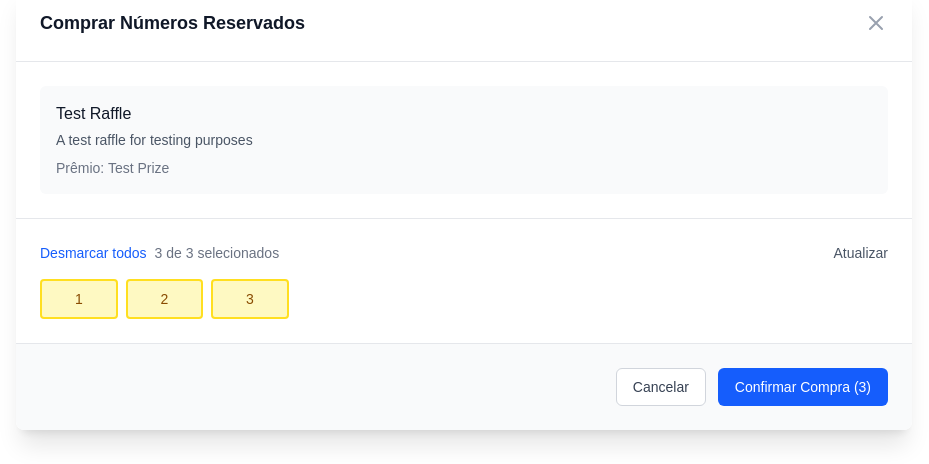
Test: RafflePurchaseModal › should allow deselecting pre-selected numbers
Expected: the text "3 de 3 selecionados" is shown, [155,242,279,262]
Expected: the button "Confirmar Compra (3)" is shown, [718,368,888,406]
# Deselecionar um número
Click the button "1" at coordinates (79, 298), box [40,278,118,318]
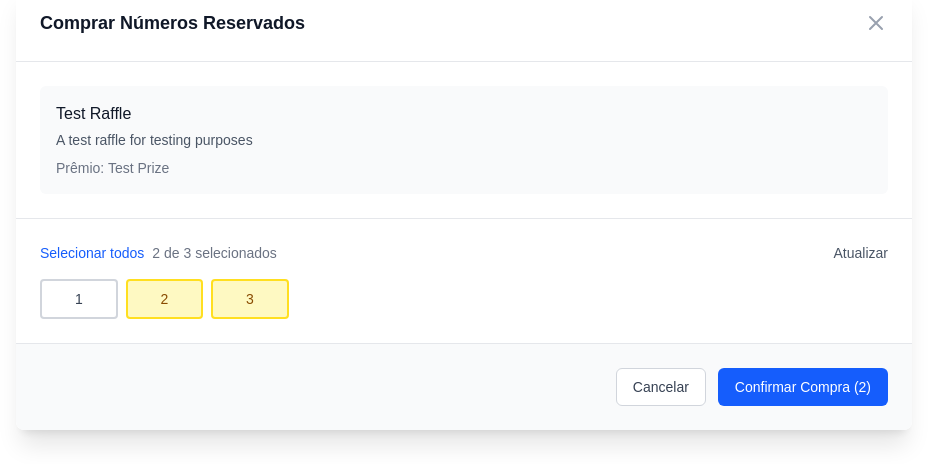
Expected: the text "2 de 3 selecionados" is shown, [152,242,277,262]
Expected: the button "Confirmar Compra (2)" is shown, [718,368,888,406]
